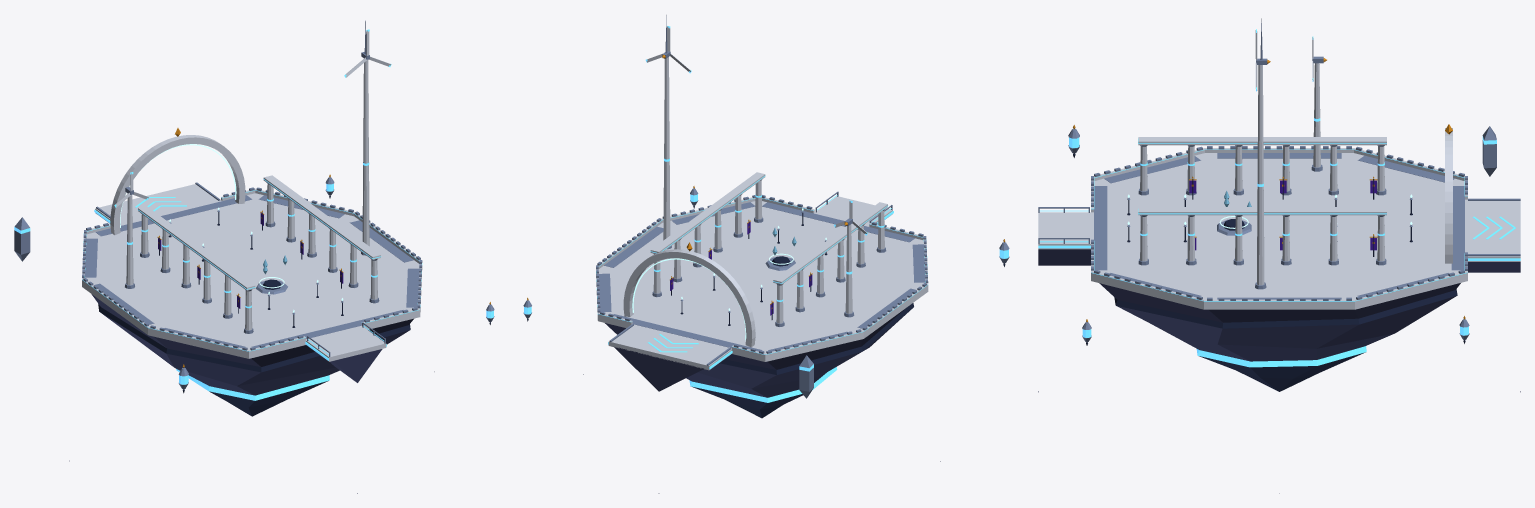
File: chunk_spire_court_b.fbx
3 views of the same model, side by side, from view 1: azimuth 30°, elevation 25°; view 2: azimuth 150°, elevation 25°; view 3: azimuth 270°, elevation 25° (orthographic). The views are drawn at different scales.
Visible parts, largest first — view 1: chunk_spire_court_b; view 2: chunk_spire_court_b; view 3: chunk_spire_court_b.
Part boxes in pixels (x1,y1,x2,y2): chunk_spire_court_b: (14,20,494,493); chunk_spire_court_b: (523,15,1009,493); chunk_spire_court_b: (1038,18,1520,493).
Bounding box in the file's own units: 256 × 256 × 256.
